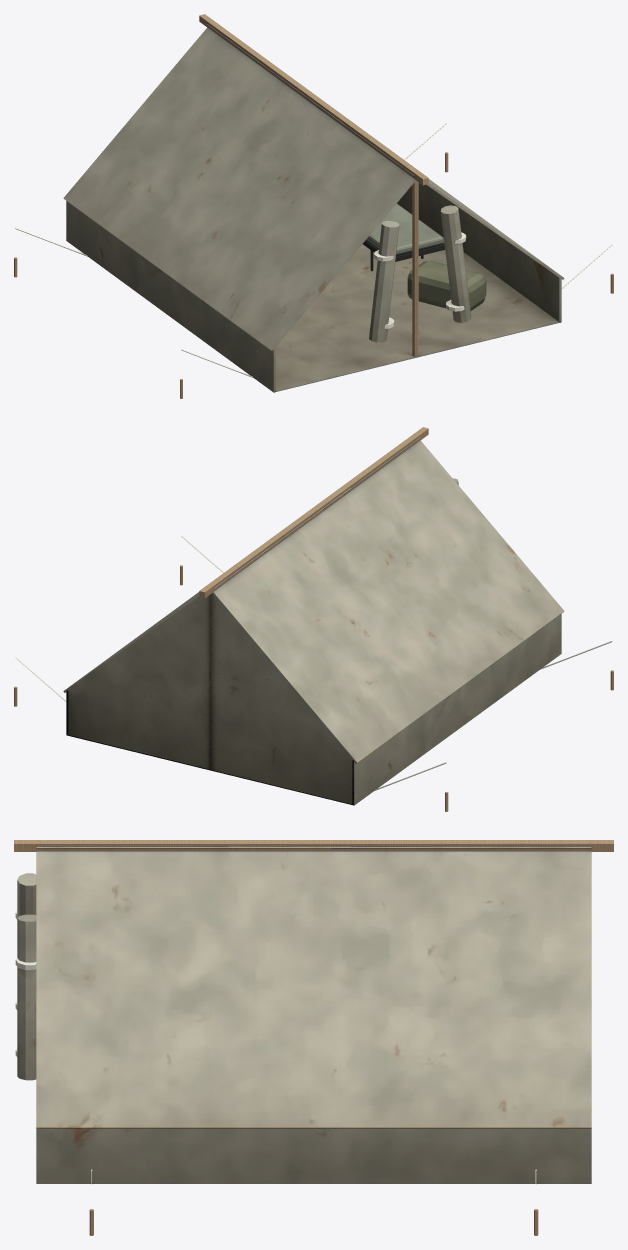
Rendered from d_tent.glb.
3 views of the same model, one above another, from view 1: azimuth 30°, elevation 25°; view 2: azimuth 150°, elevation 25°; view 3: azimuth 270°, elevation 25° (orthographic). The views are drawn at different scales.
Visible parts, largest first — view 1: BldT_Roof, BldT_Shell, BldT_Interior; view 2: BldT_Roof, BldT_Shell; view 3: BldT_Roof, BldT_Shell.
Boxes of the visible parts, x1,y1,x2,y2 form: BldT_Roof: (63, 14, 564, 350); BldT_Shell: (14, 123, 613, 398); BldT_Interior: (363, 203, 486, 310); BldT_Roof: (63, 427, 564, 763); BldT_Shell: (14, 478, 613, 811); BldT_Roof: (14, 840, 613, 1128); BldT_Shell: (15, 873, 591, 1235).
Size of the model in its own units: 6.03 by 2.51 by 5.4.
Materials: 3 (3 with a texture image).
